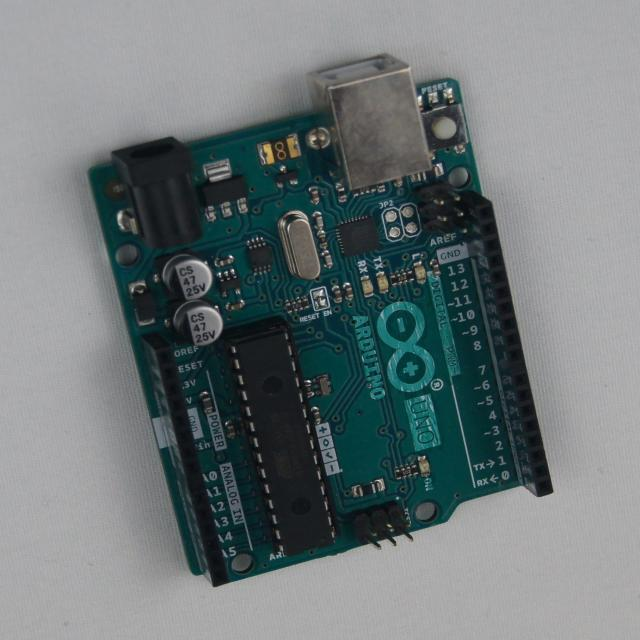Arduino Uno -Green-: (91, 56, 553, 586)
